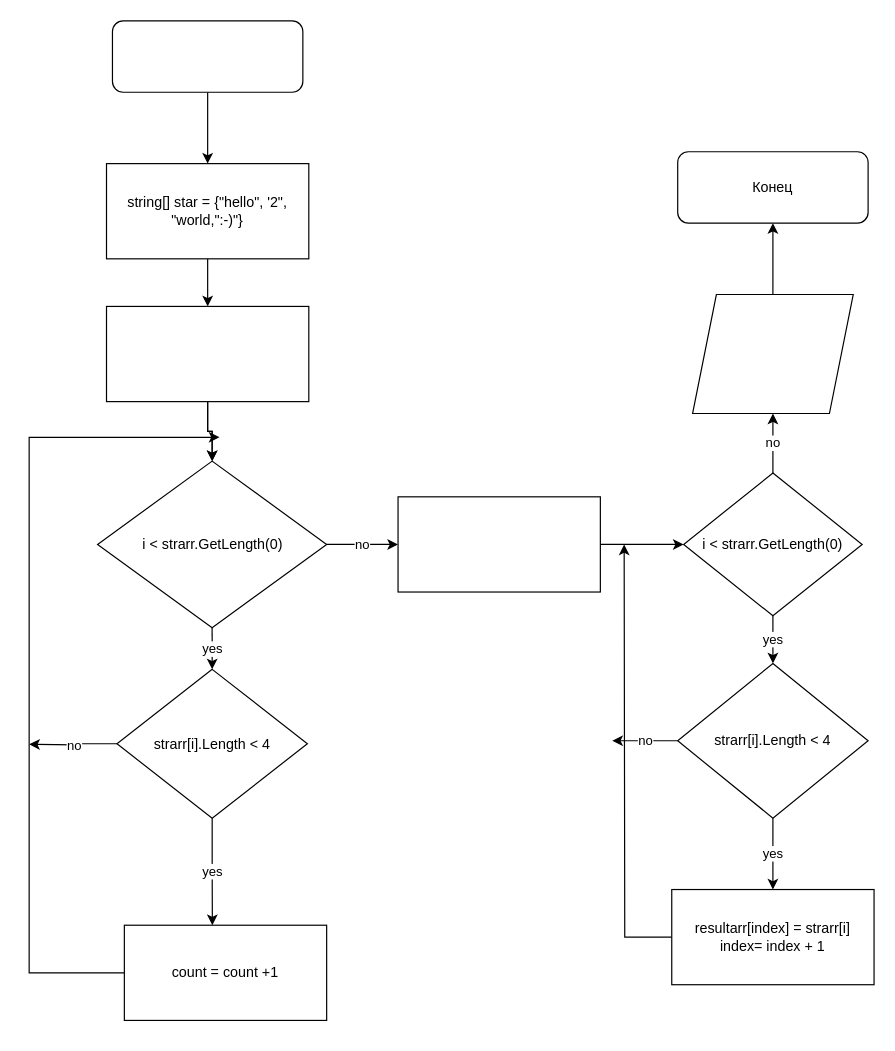
Some shapes in this 895 by 1051 pixel diagram are drawn without their labels. The centre of each missing label's shape, as x and y in pixels:
count =0 Index = 0 temp = "": the point at 207,353
string[] resultarr: the point at 772,353
string[] resultarr = new string[count]: the point at 498,544
Начало: the point at 207,56
